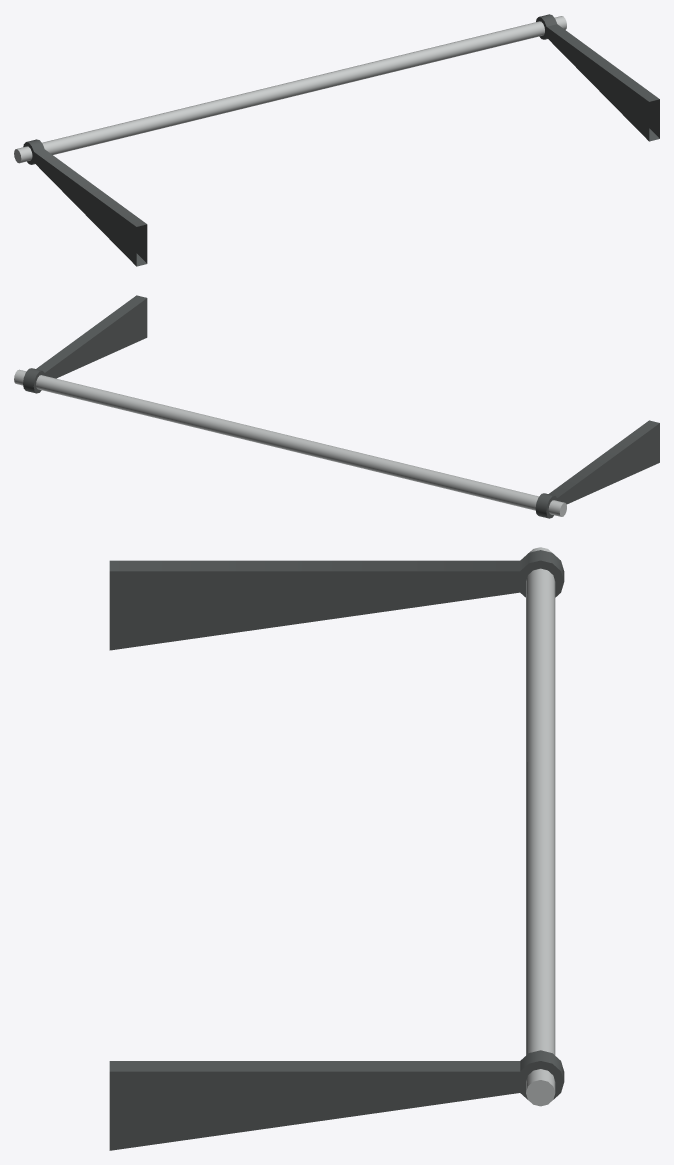
File: wall_rack_01.FBX
3 views of the same model, one above another, from view 1: azimuth 30°, elevation 25°; view 2: azimuth 150°, elevation 25°; view 3: azimuth 270°, elevation 25° (orthographic). The views are drawn at different scales.
Visible parts, largest first — view 1: WallRack_v1; view 2: WallRack_v1; view 3: WallRack_v1.
Boxes of the visible parts, x1,y1,x2,y2 form: WallRack_v1: (14, 14, 659, 266); WallRack_v1: (14, 295, 659, 518); WallRack_v1: (109, 547, 564, 1150).
Bounding box in the file's own units: 146 × 11.52 × 52.73.
